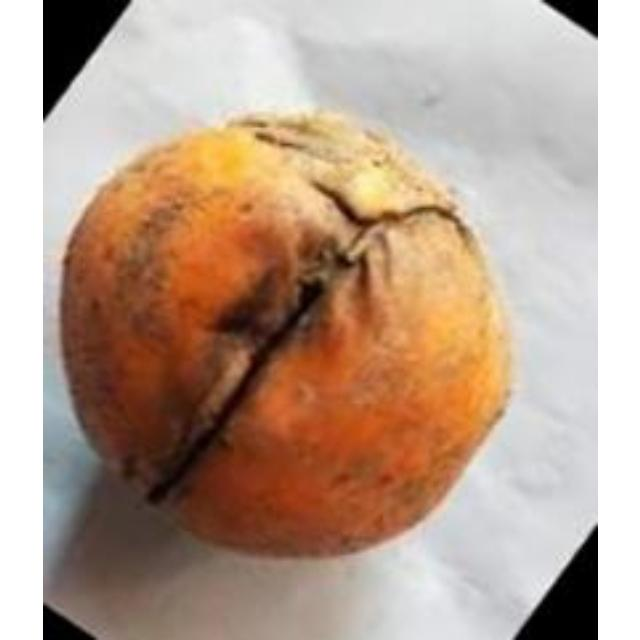damaged: (55, 106, 517, 563)
